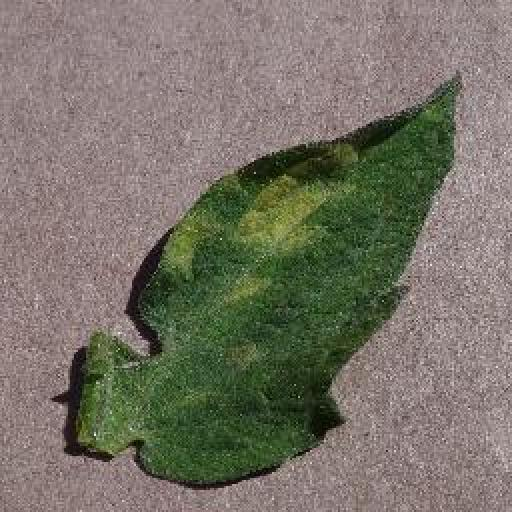Leaf Mold: (80, 69, 462, 488)
